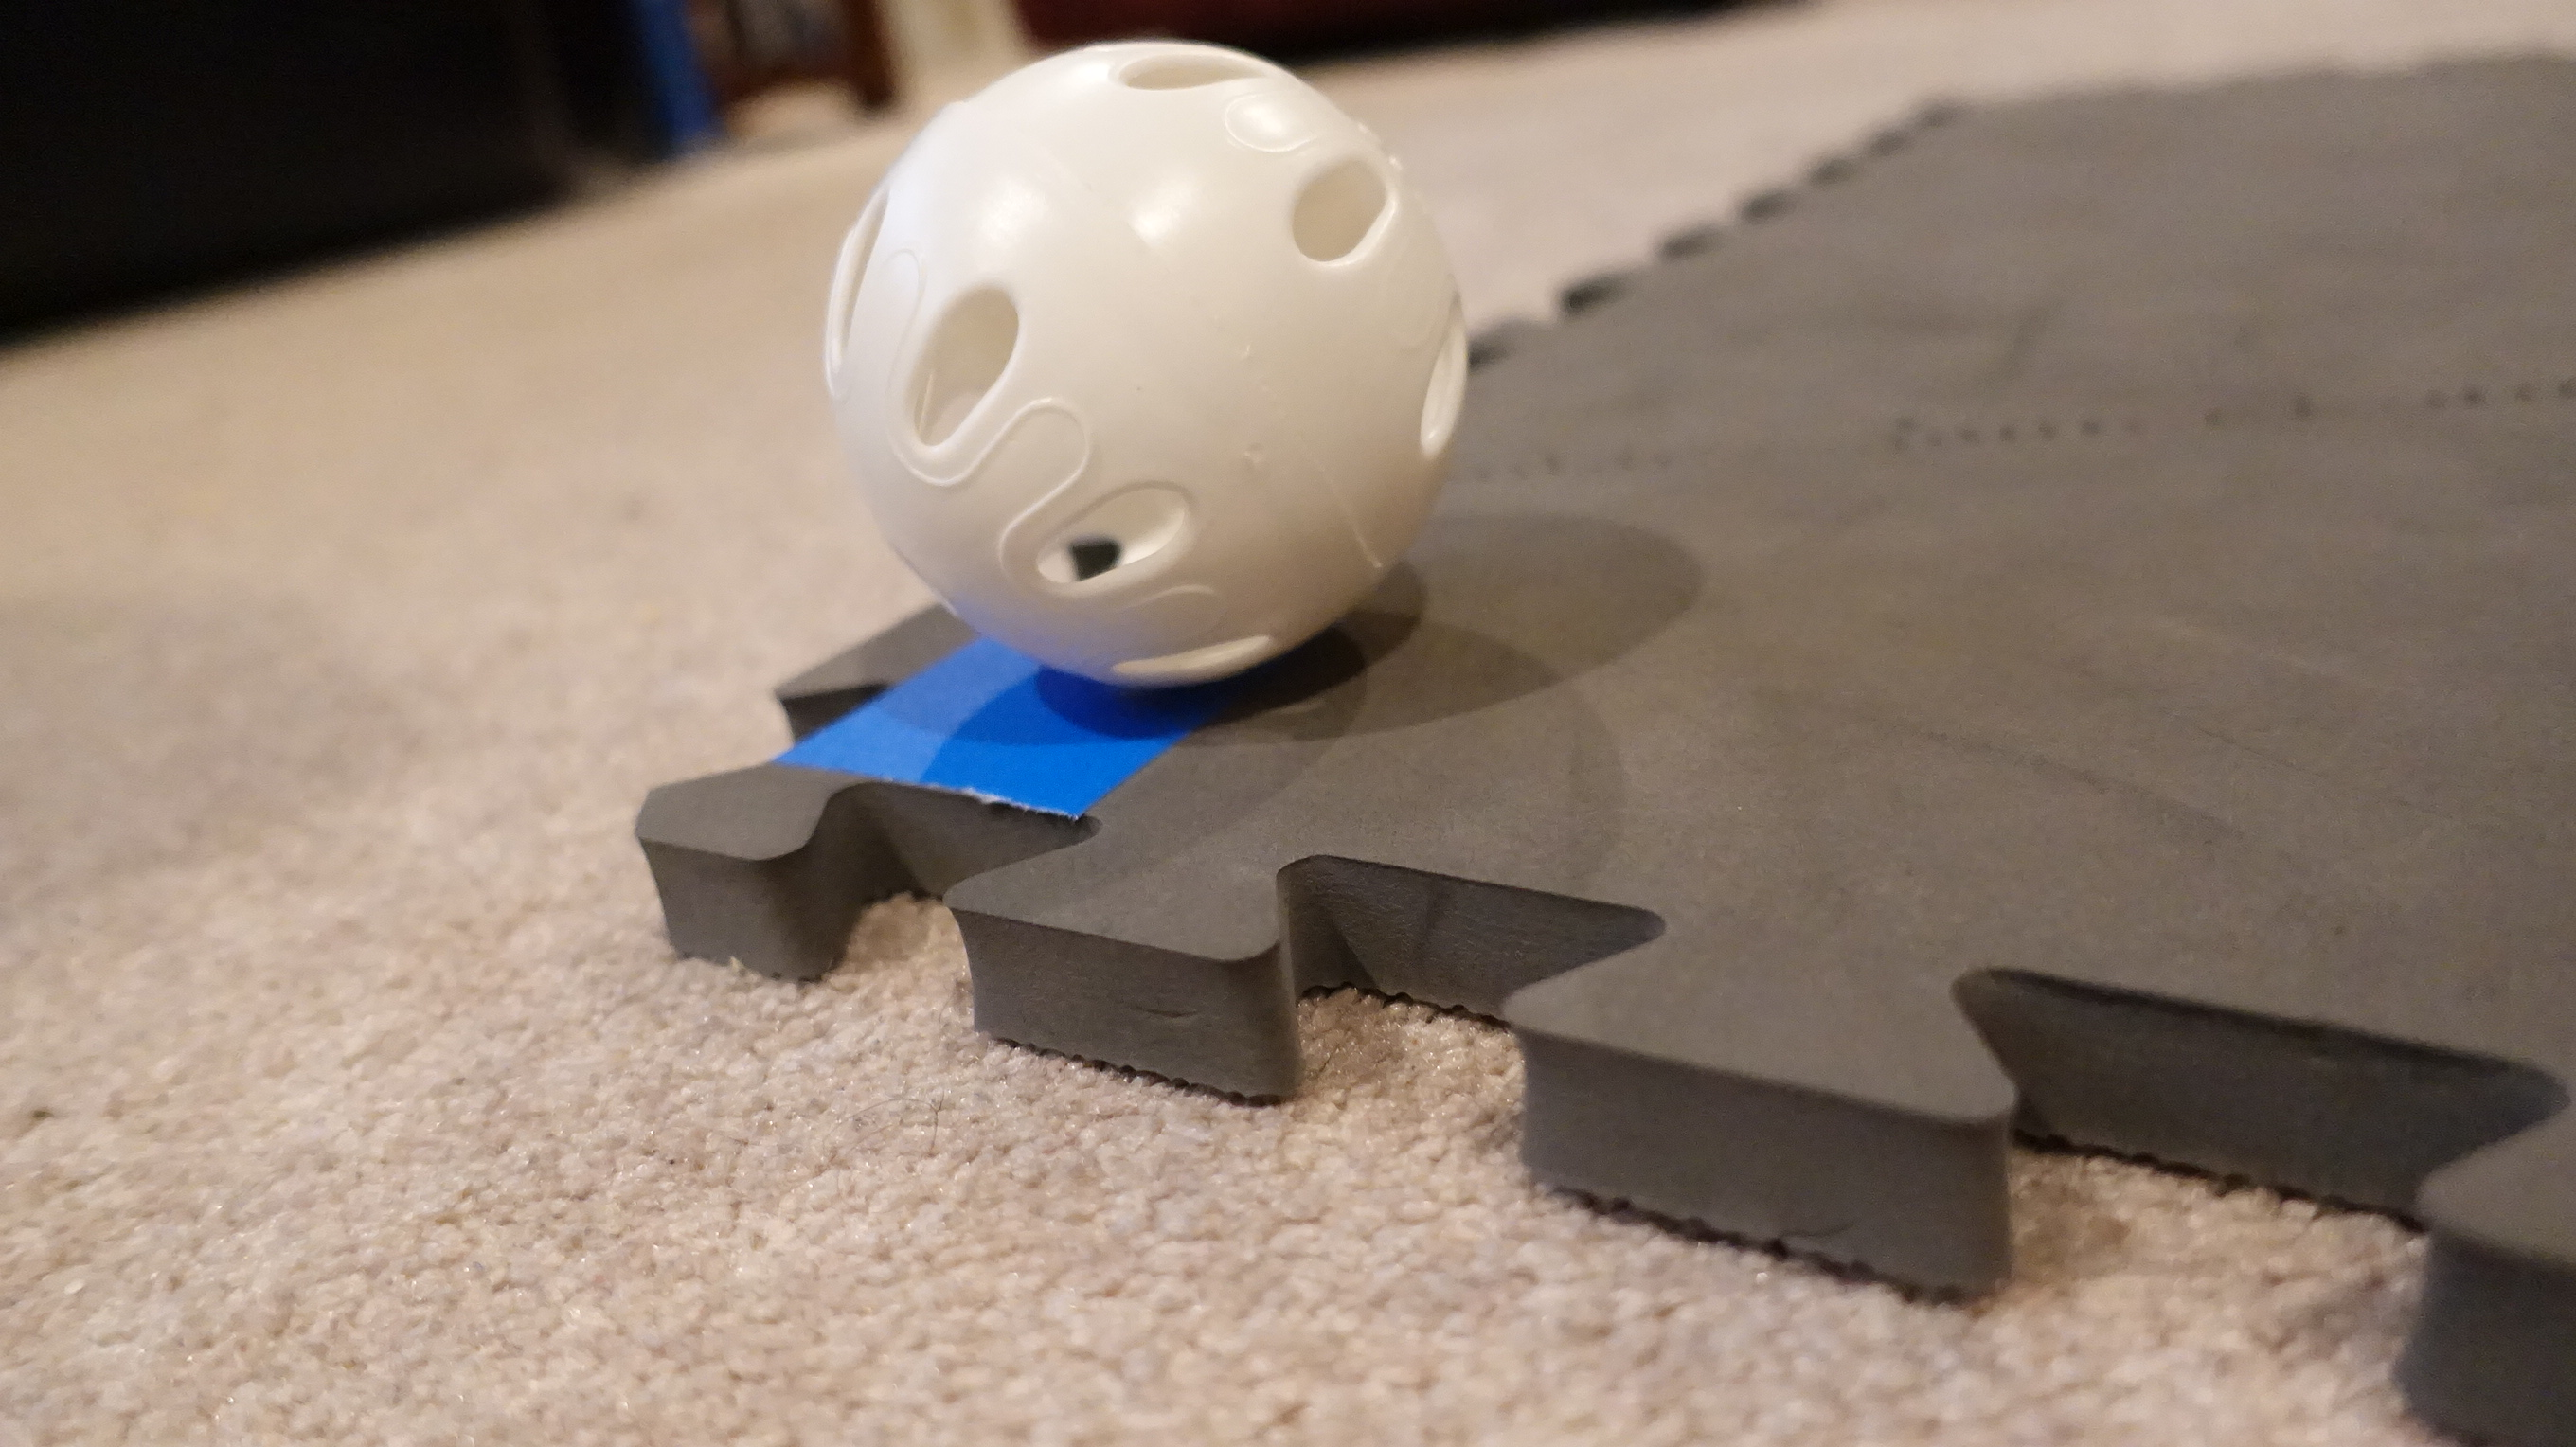silver: (814, 37, 1483, 706)
